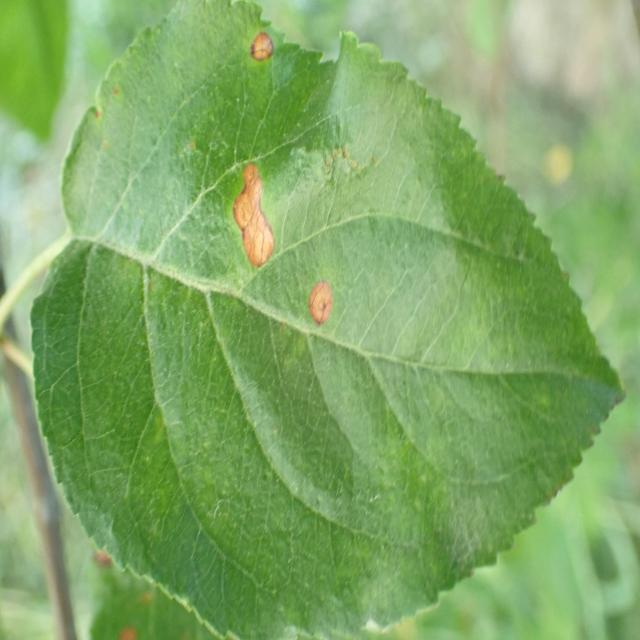Black Rot: (213, 128, 278, 282), (302, 272, 345, 342), (237, 23, 286, 78)
